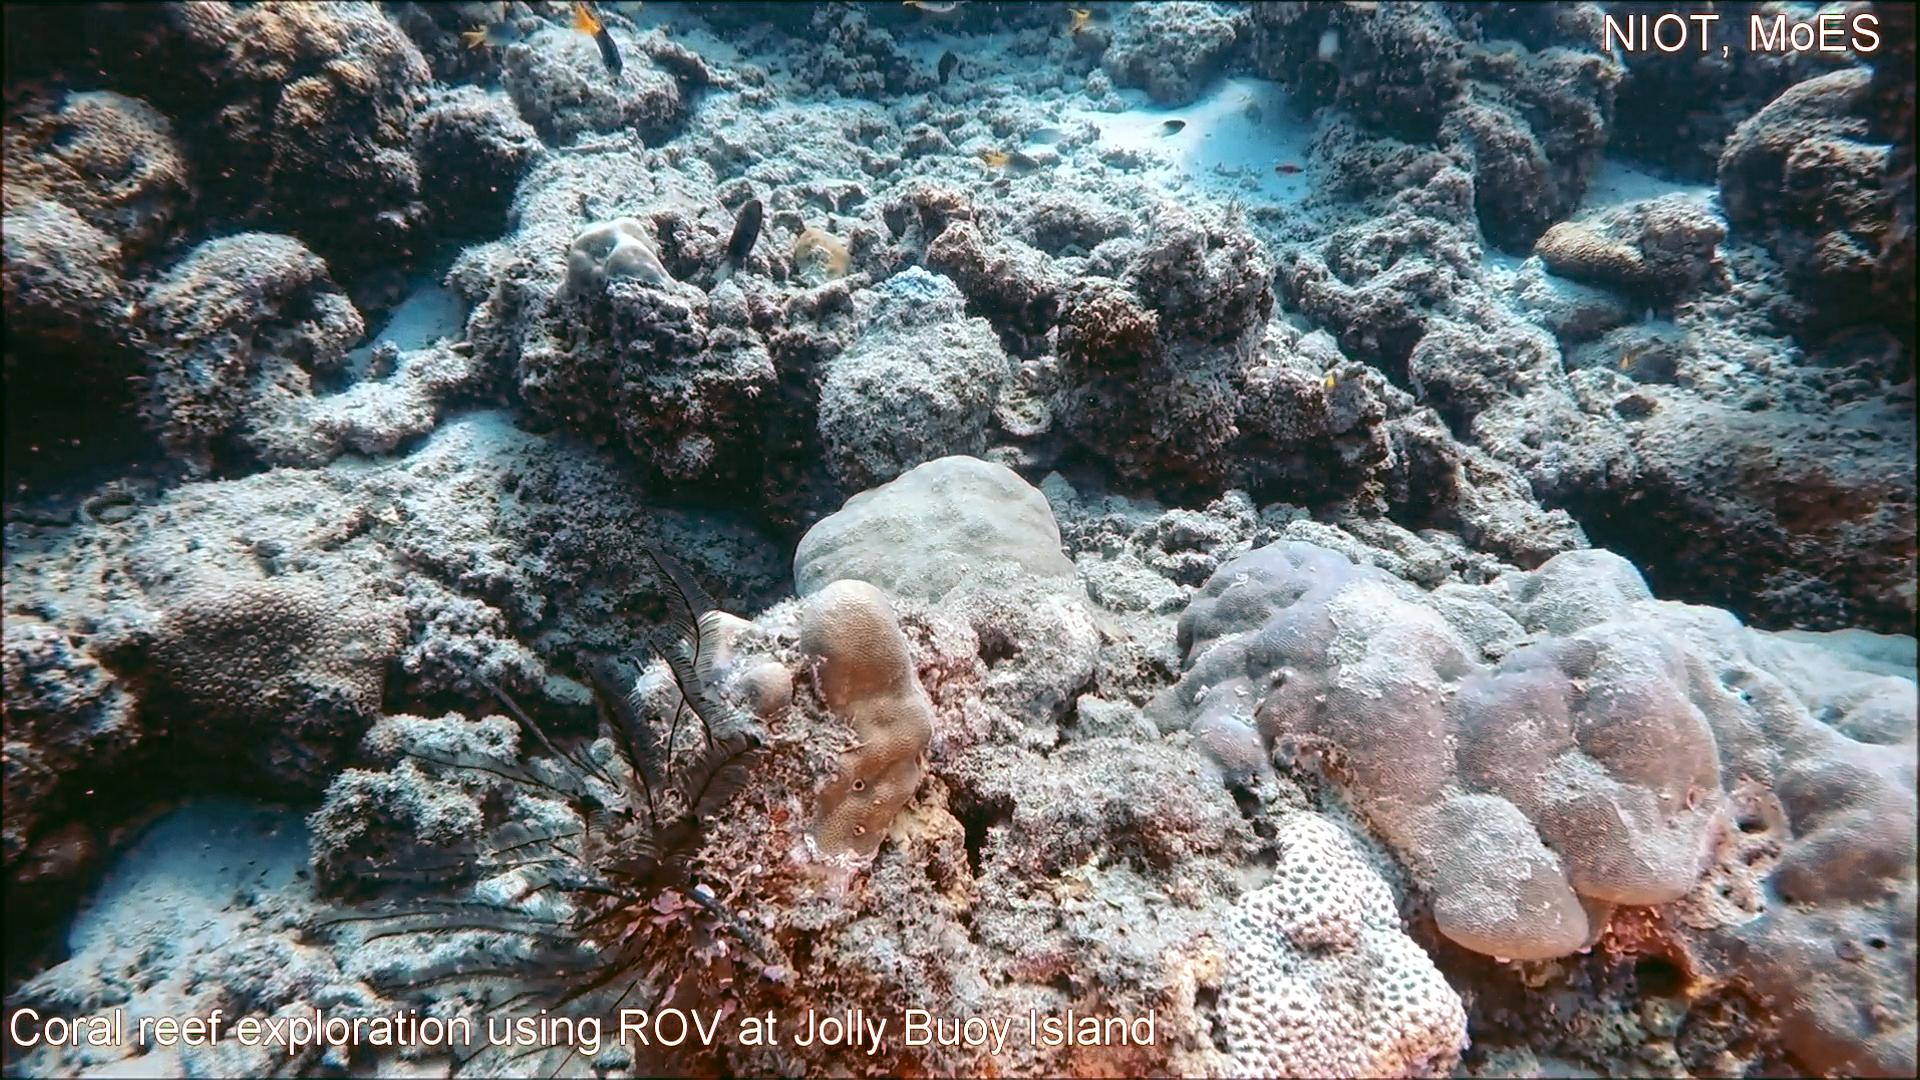Feather star-Crinoid star: (302, 538, 791, 1080)
Goniastrea-Goniastrea pectinata: (1212, 803, 1478, 1080)
Porites-Porites pukoensis: (1568, 542, 1920, 1080)
Turbinaria-Turbinaria stellulata: (138, 562, 417, 773)
